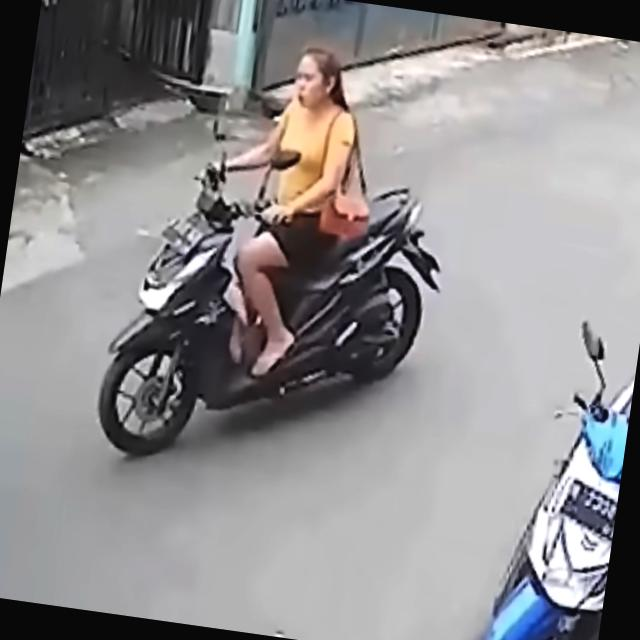WithoutHelmet: (127, 25, 451, 399)
